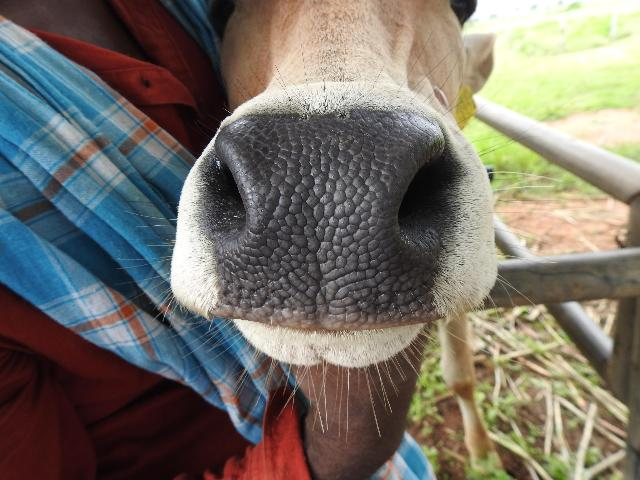Muzzle: (224, 127, 396, 317)
